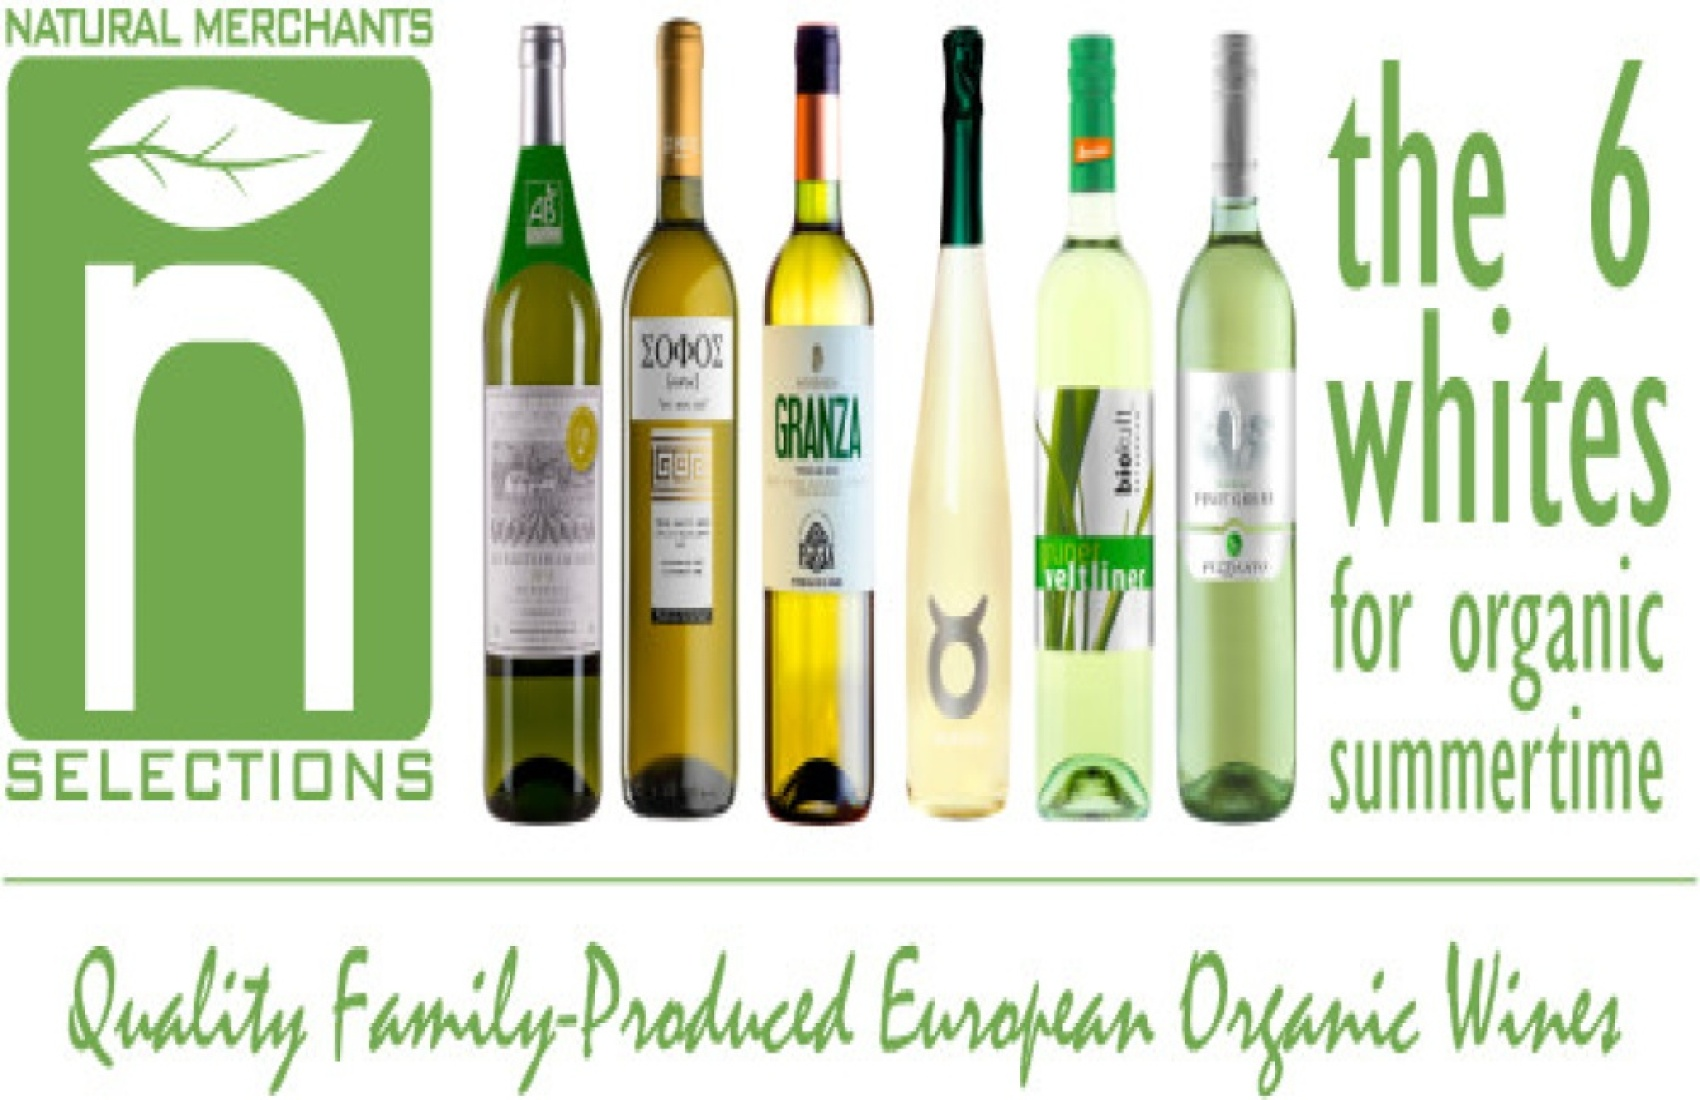wine: (1177, 19, 1301, 819), (1038, 7, 1162, 808), (897, 5, 1021, 805), (761, 38, 885, 839), (615, 36, 738, 836), (480, 19, 603, 818)
